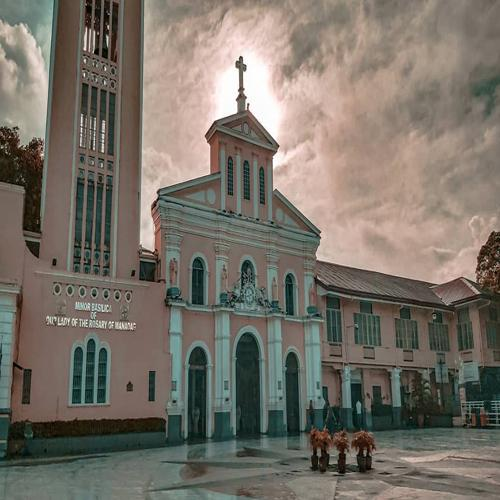Manaoag Church: (19, 12, 329, 450)
